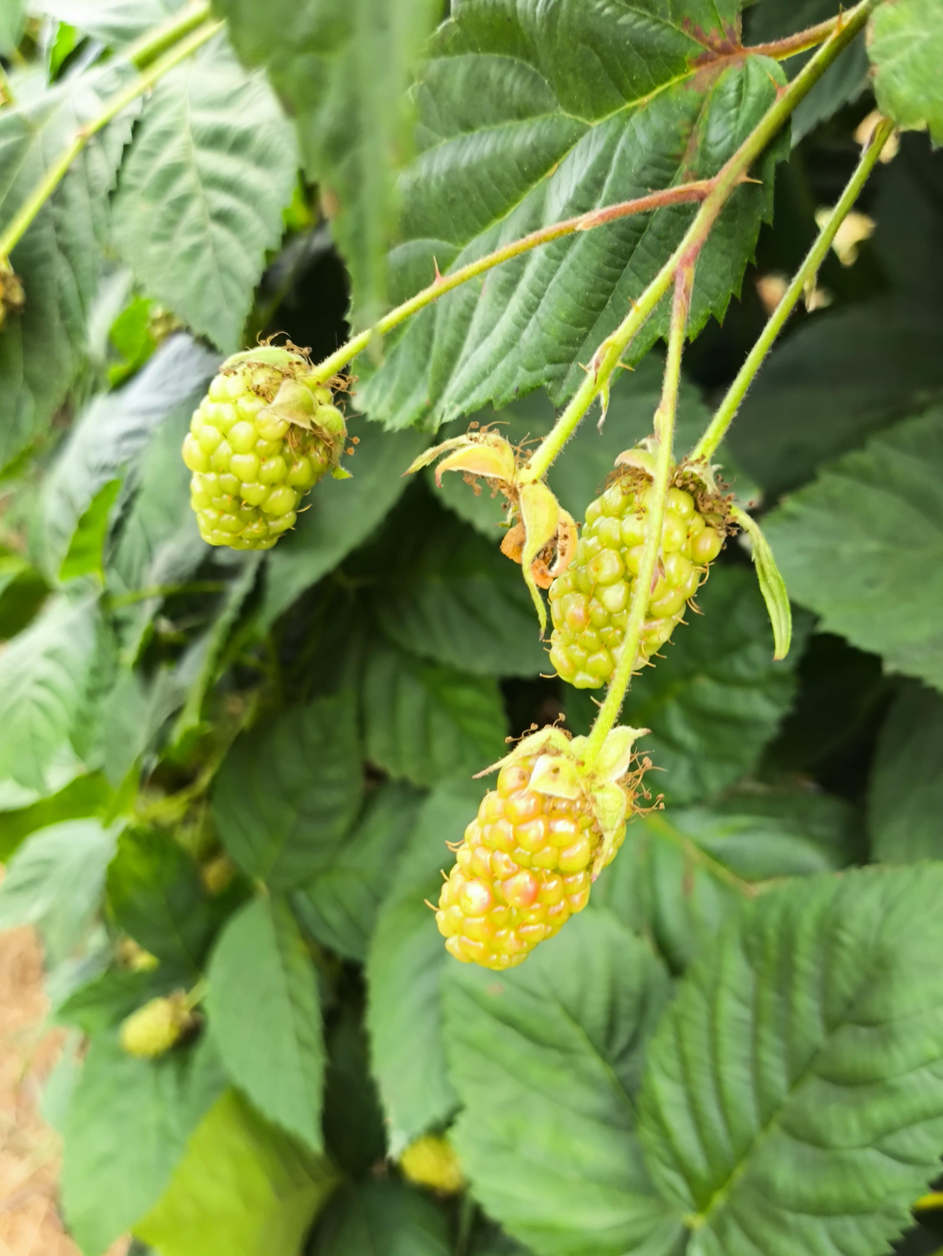verde: (436, 748, 627, 971), (549, 459, 726, 688), (182, 345, 347, 550)
